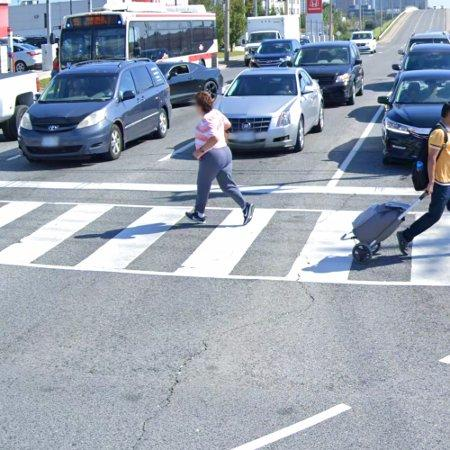crosswalks: (0, 199, 450, 289)
